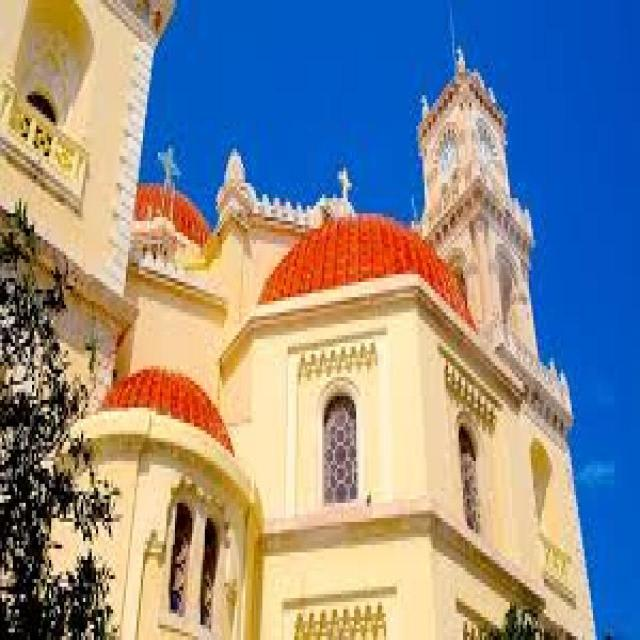Agios Minas: (2, 1, 600, 640)
